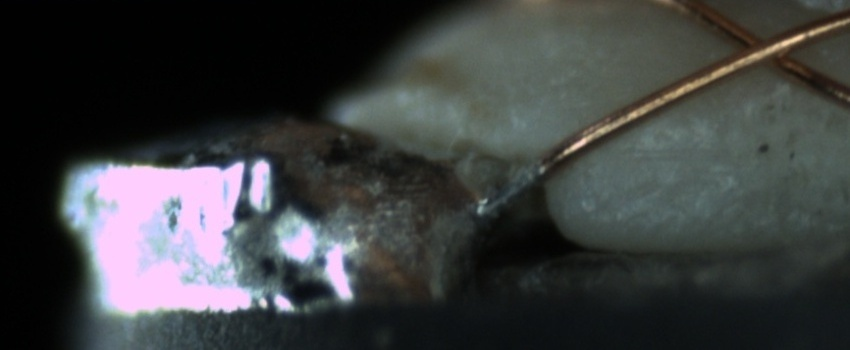CL: (711, 15, 818, 80)
DL: (602, 123, 728, 181)
TS: (481, 160, 547, 220)
